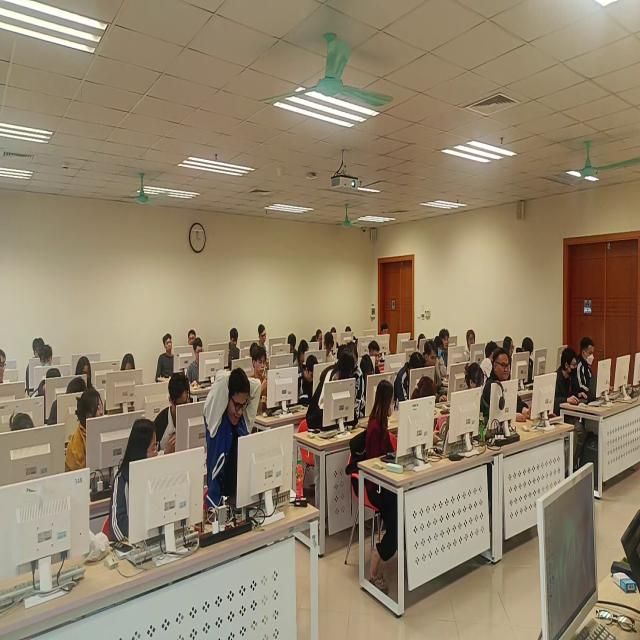raise_head: (490, 353, 522, 426), (155, 331, 181, 379), (466, 328, 482, 364), (442, 323, 452, 355), (188, 330, 199, 352)
stand: (315, 354, 354, 458)
using_computer: (208, 369, 269, 496), (156, 378, 209, 461), (5, 413, 51, 489), (551, 354, 597, 418), (578, 334, 626, 395), (464, 365, 502, 439), (425, 343, 460, 401), (189, 342, 221, 393), (58, 381, 92, 425), (368, 340, 398, 389), (398, 352, 428, 399), (110, 349, 145, 388), (519, 341, 548, 385), (73, 358, 107, 394), (37, 367, 64, 410), (225, 326, 245, 368), (41, 343, 61, 380), (503, 340, 525, 373), (287, 334, 300, 374), (321, 337, 337, 365), (258, 325, 275, 351), (30, 337, 47, 361)
using_phone: (250, 350, 274, 412), (296, 357, 323, 408)
